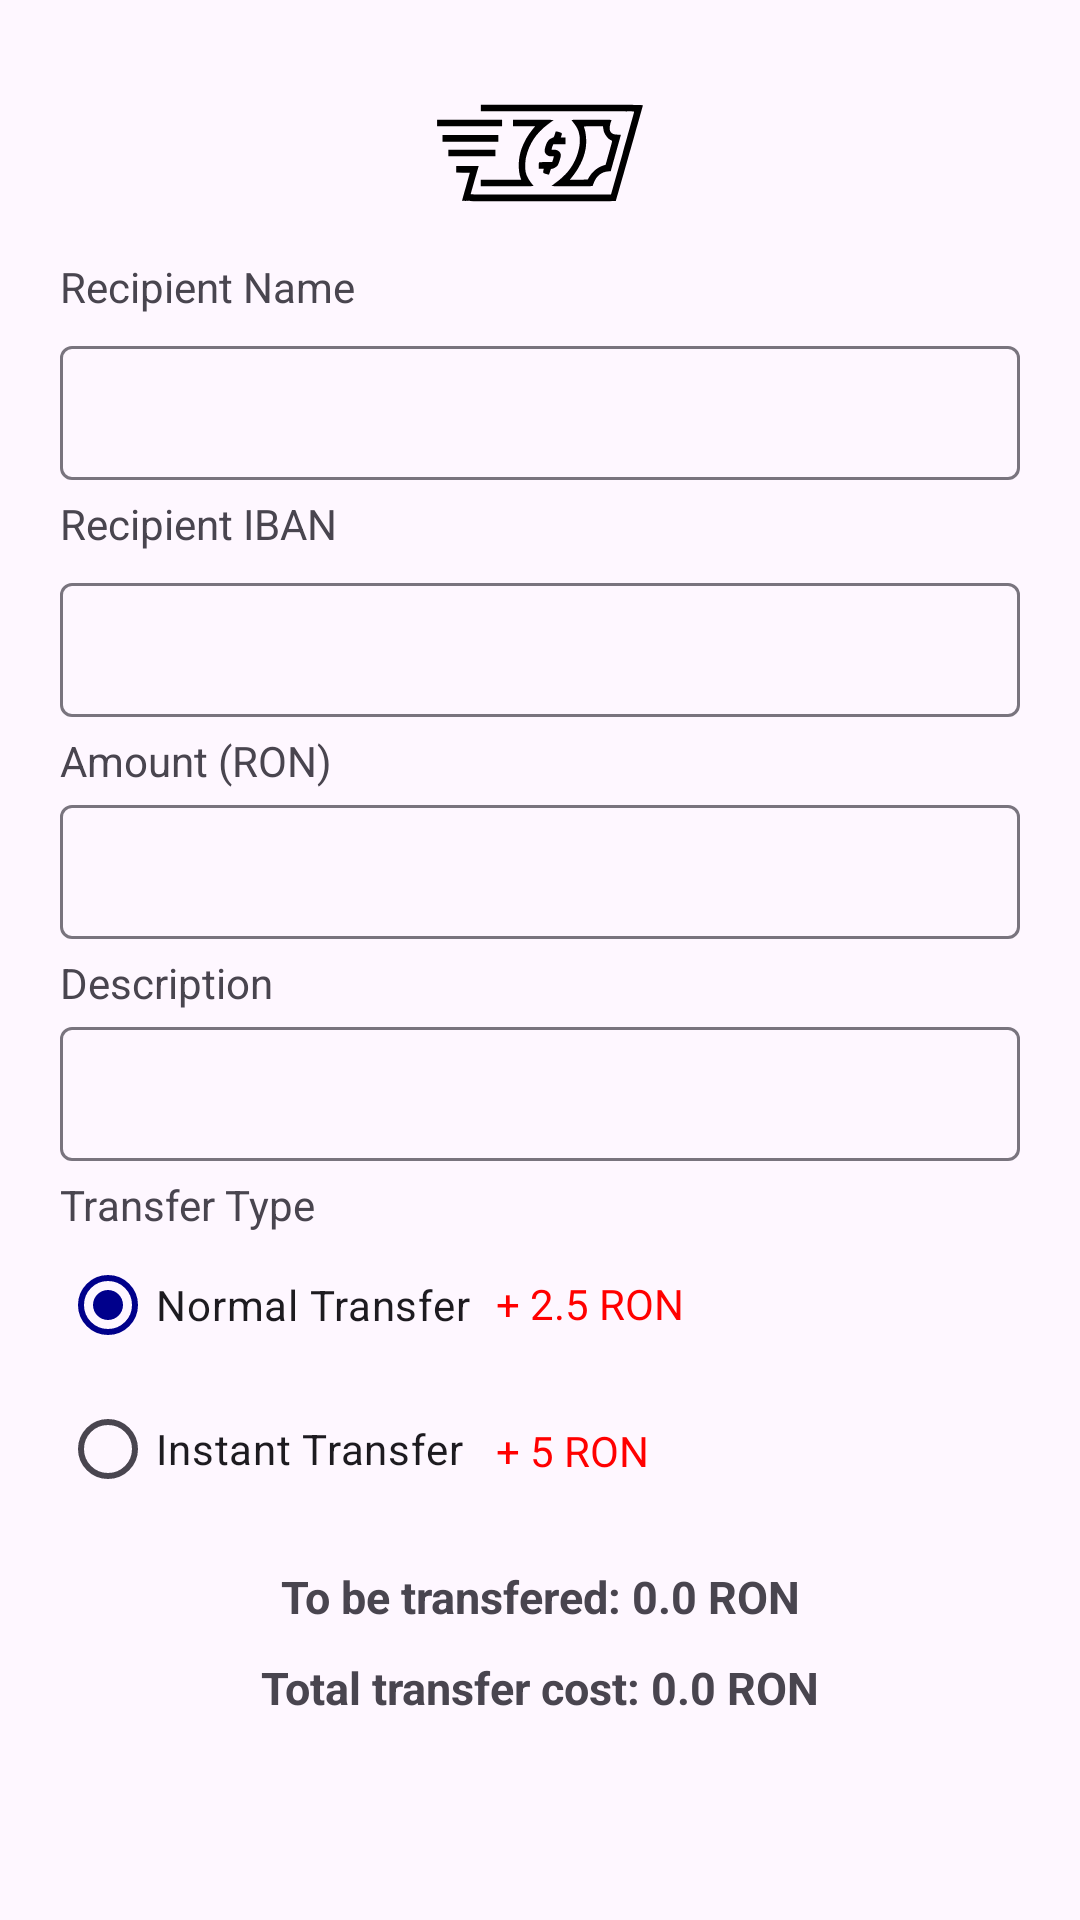

Icon bounding boxes for this 1080w x 1920h phone screenshot, format (x1, y1, x2, y2):
transfer: (437, 104, 643, 202)
